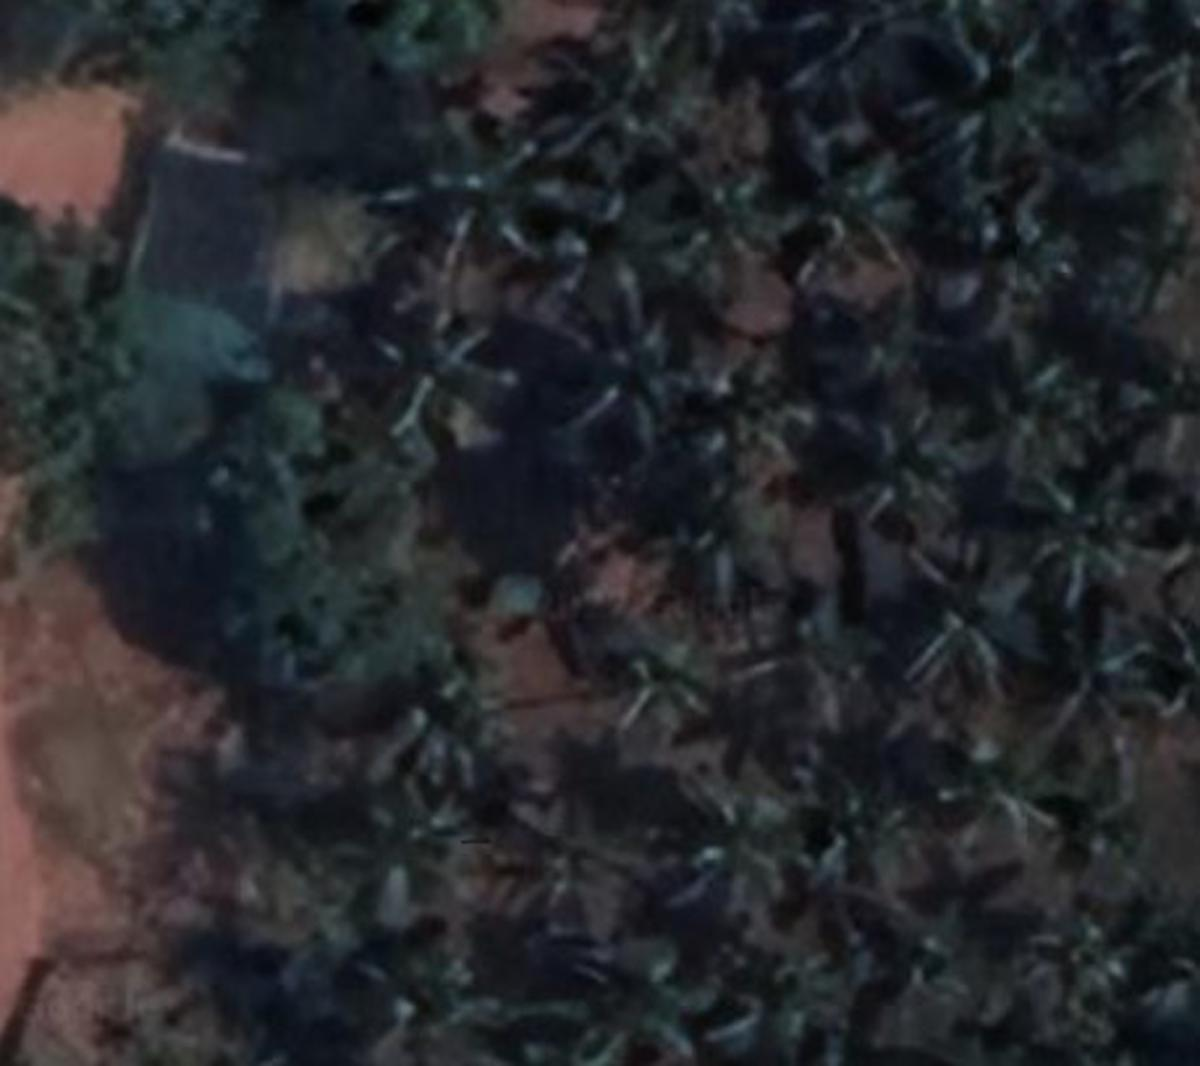coconut: (542, 266, 725, 447), (495, 941, 717, 1066), (382, 133, 558, 277), (340, 282, 510, 429), (652, 780, 812, 929), (888, 526, 1016, 691), (1029, 610, 1158, 743)
